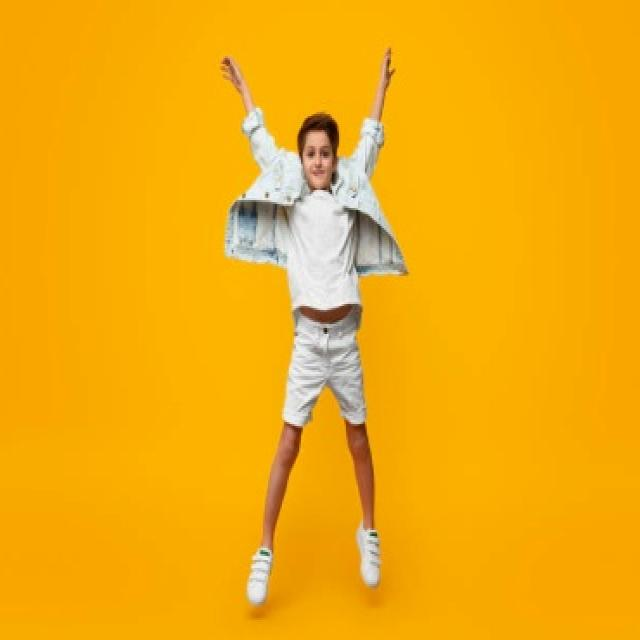child: (214, 19, 423, 610)
